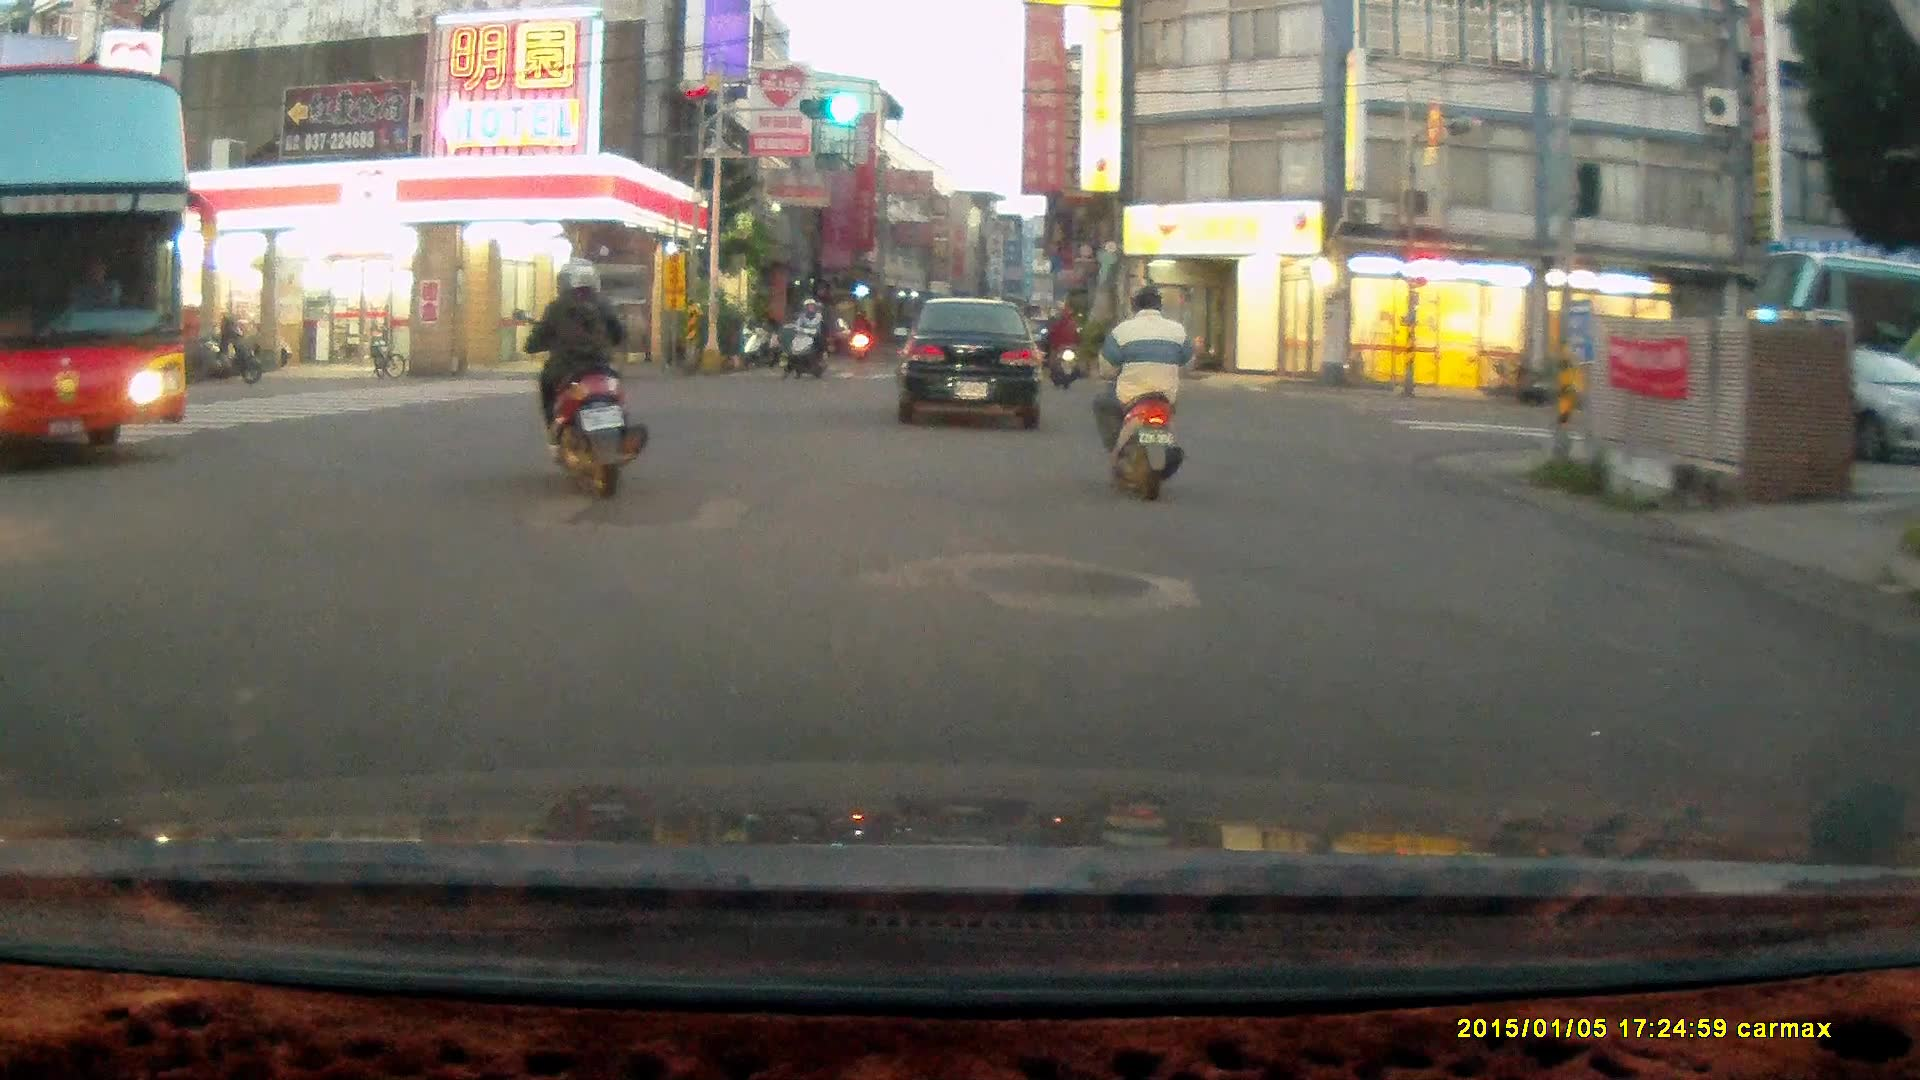rider: (516, 252, 651, 493), (1094, 283, 1195, 502), (785, 294, 834, 377), (1042, 298, 1081, 389)
vehicle: (1, 57, 191, 452), (1705, 340, 1920, 464), (901, 293, 1046, 431)
